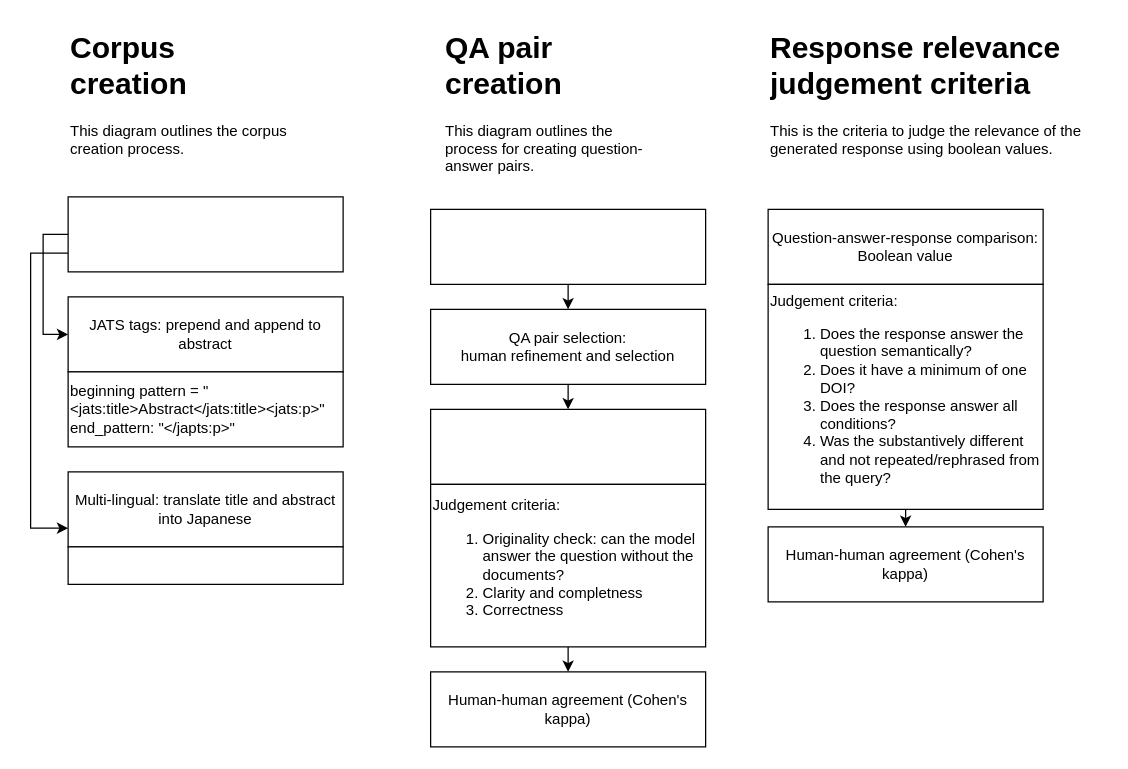
This 1128x769 diagram has some shape labels left out. Each missing label, with the centre of its shape:
"Clean corpus" goes at (x=205, y=234).
"GoogleTranslator, target='ja'" goes at (x=205, y=565).
"QA pair creation LLM-assist using Cohere 'command-a-03-2025'" goes at (x=567, y=246).
"QA pair validation: human review, LLM-assist" goes at (x=567, y=446).
